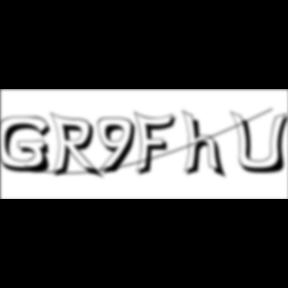9: (98, 117, 142, 177)
F: (134, 110, 182, 178)
G: (1, 116, 58, 176)
R: (51, 112, 108, 182)
h: (182, 108, 230, 182)
